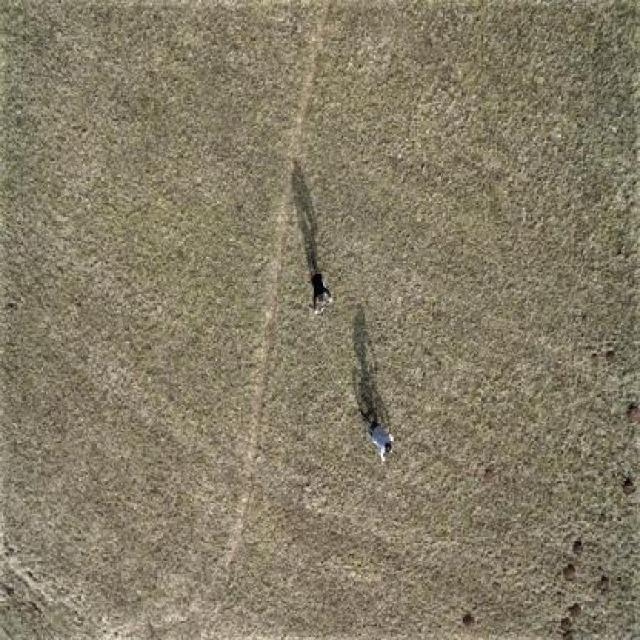Person: (360, 417, 398, 466), (301, 266, 333, 317)
